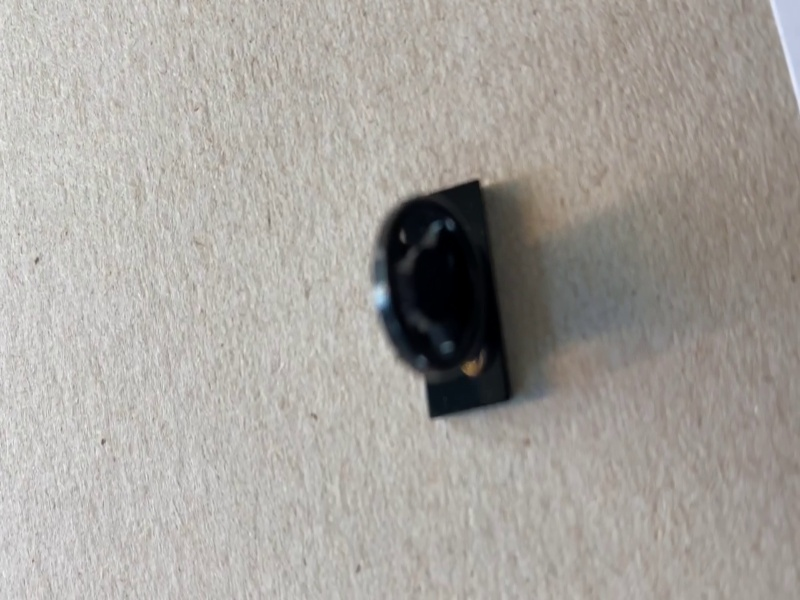steering wheel: (370, 179, 516, 421)
